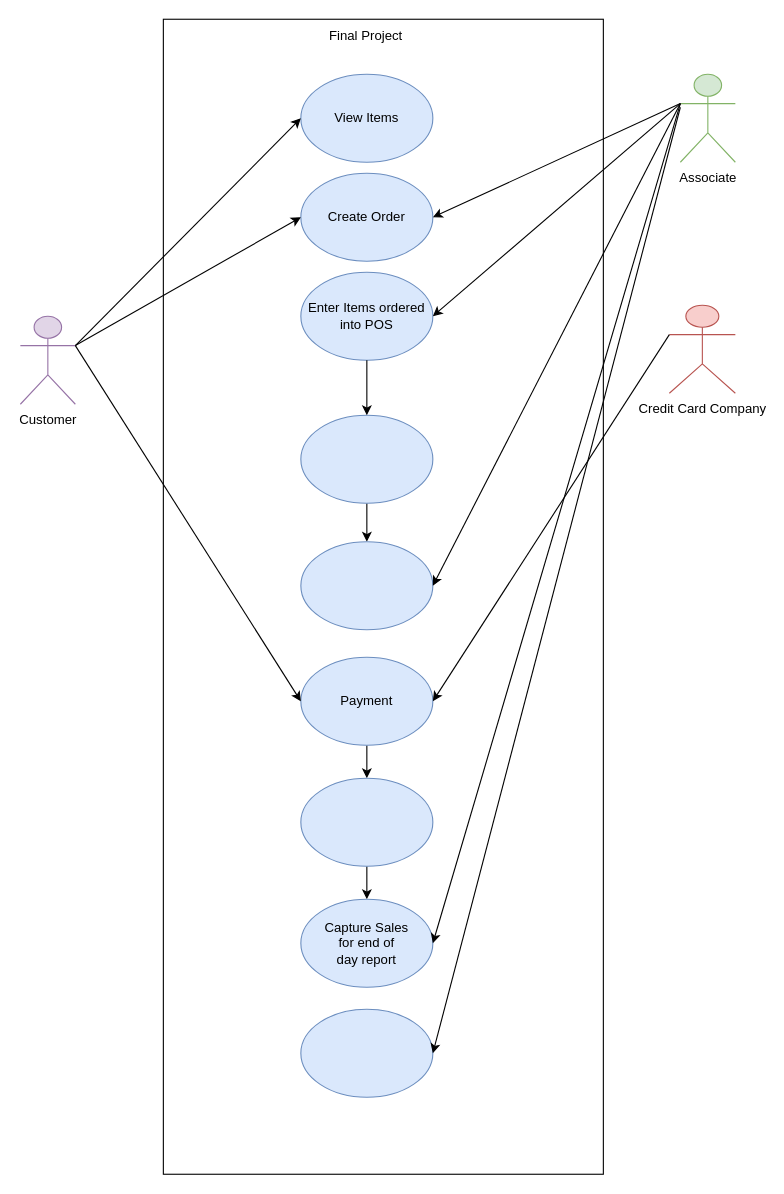
This 784x1194 diagram has some shape labels left out. The centre of each missing label's shape, as x and y in pixels:
Close Transaction: the point at 366,585
Complete Checkout: the point at 366,821
print end of day report: the point at 366,1052
Print Ticket: the point at 366,458
